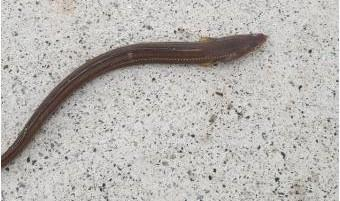fish: (0, 33, 267, 167)
